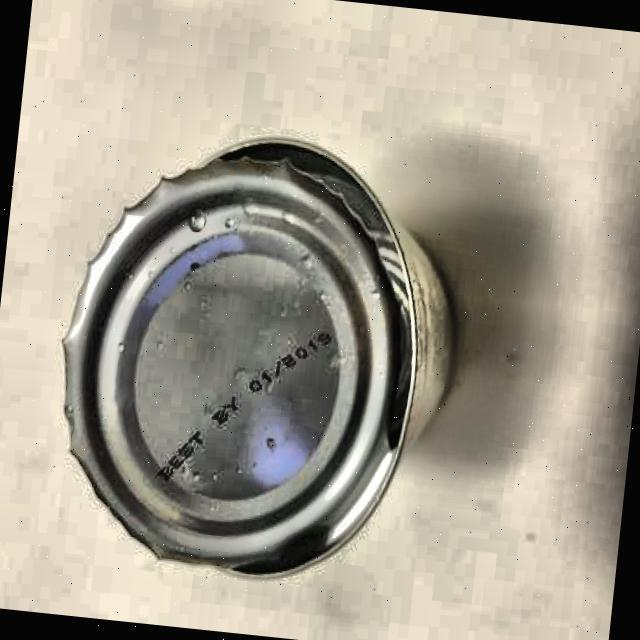metal: (51, 118, 478, 570)
